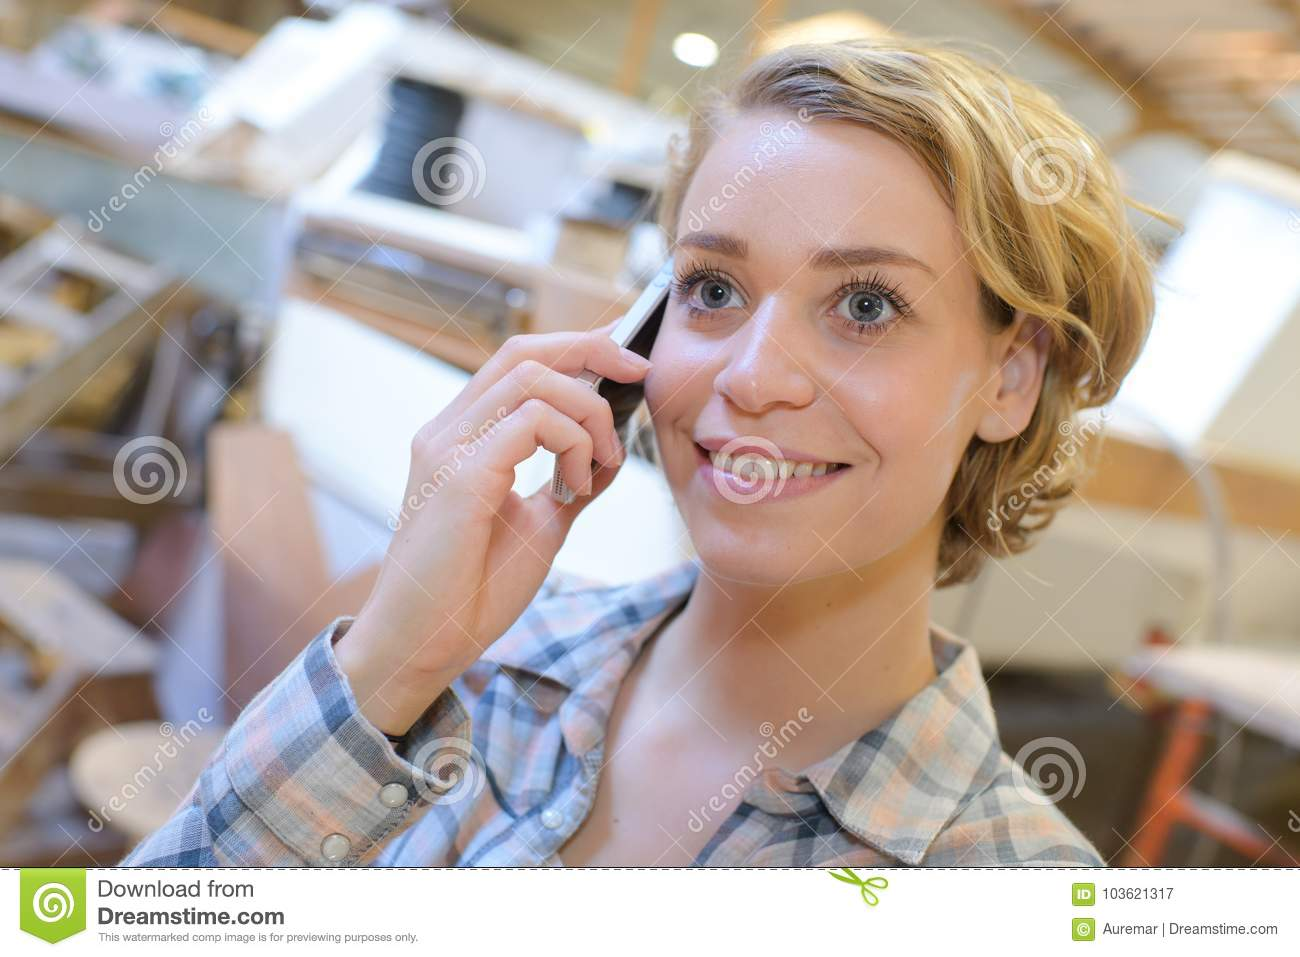phone: (547, 250, 668, 514)
talk: (362, 221, 936, 714)
